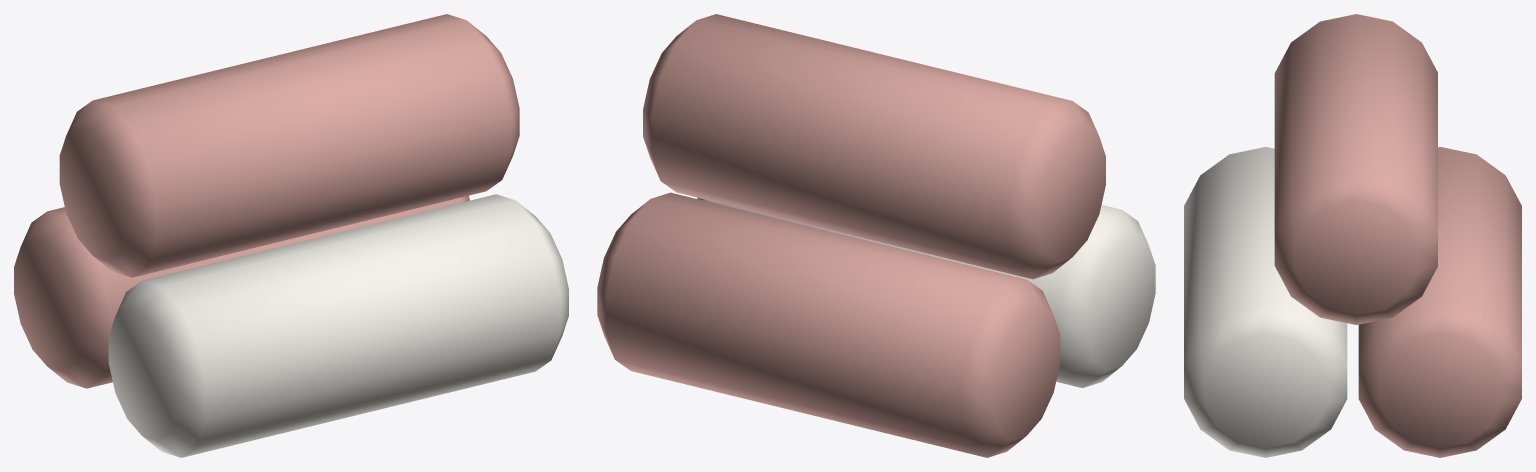
File: i_towels_1.glb
3 views of the same model, side by side, from view 1: azimuth 30°, elevation 25°; view 2: azimuth 150°, elevation 25°; view 3: azimuth 270°, elevation 25° (orthographic). The views are drawn at different scales.
Parts seen in each view (by area): view 1: o.002, o, o.001; view 2: o.001, o.002, o; view 3: o.002, o, o.001.
Part boxes in pixels (<box>): o.002: <box>59,14,519,277</box>; o: <box>108,194,568,457</box>; o.001: <box>14,195,469,388</box>; o.001: <box>597,192,1060,457</box>; o.002: <box>643,14,1105,279</box>; o: <box>697,197,1155,387</box>; o.002: <box>1274,14,1437,324</box>; o: <box>1184,147,1347,457</box>; o.001: <box>1358,147,1521,457</box>.
Bounding box in the file's own units: 0.3 × 0.225 × 0.242.
